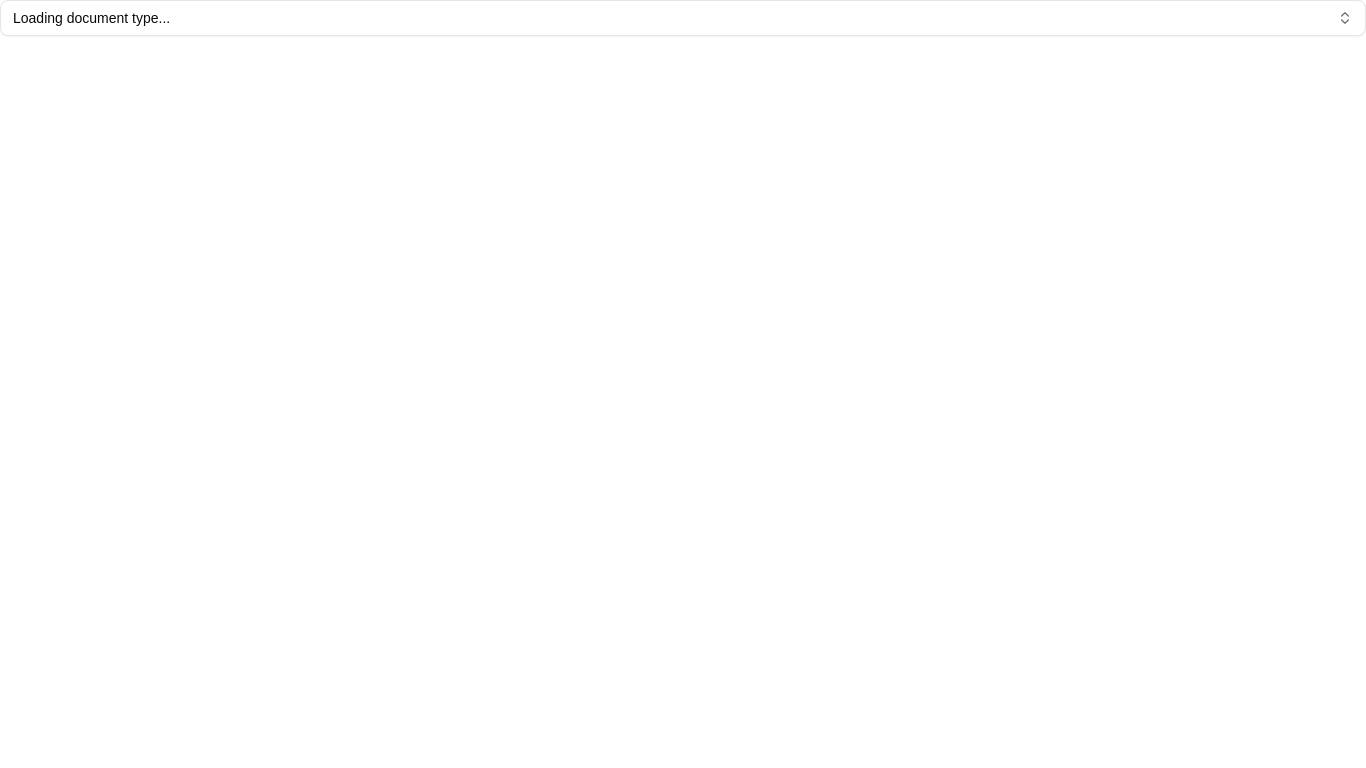
it: LookupCombobox › shows loading, empty, error, and retry states
The image size is (1366, 768).
Later steps or results of the test are not shown.
Click the dropdown labelled "document type" at (92, 18), box [0,0,1365,36]
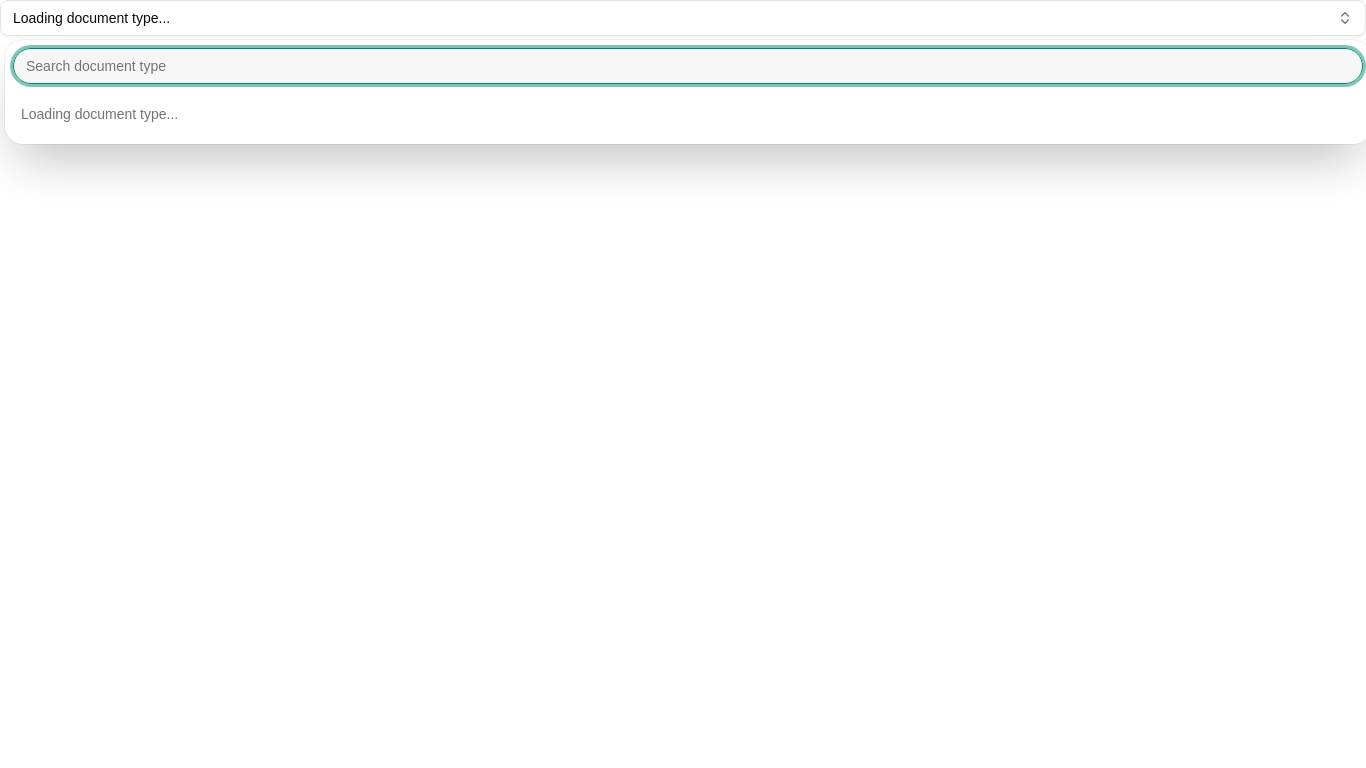
expect the message shows "Loading": met, box [21,106,75,122]
